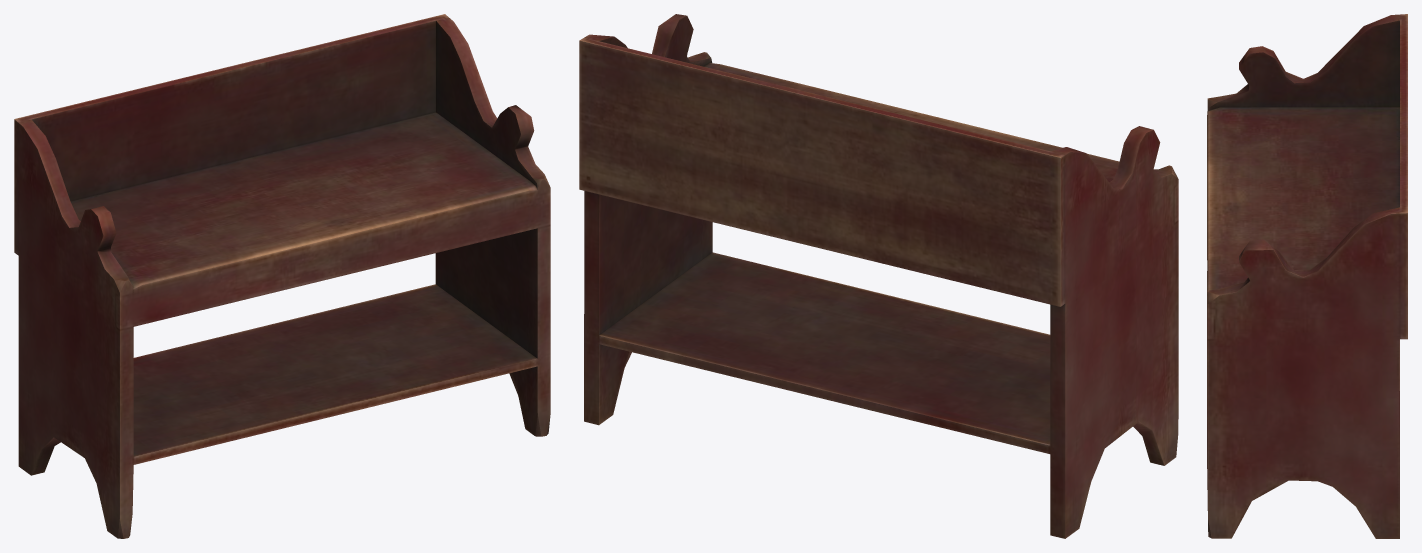
The model's file is ph2_painted_wooden_bench.glb.
The picture shows the model from 3 angles, left to right: view 1: azimuth 30°, elevation 25°; view 2: azimuth 150°, elevation 25°; view 3: azimuth 270°, elevation 25°; orthographic projection. The views are drawn at different scales.
Bounding box in the file's own units: 1.16 × 0.8893 × 0.4966.
1 material, 1 textured.
